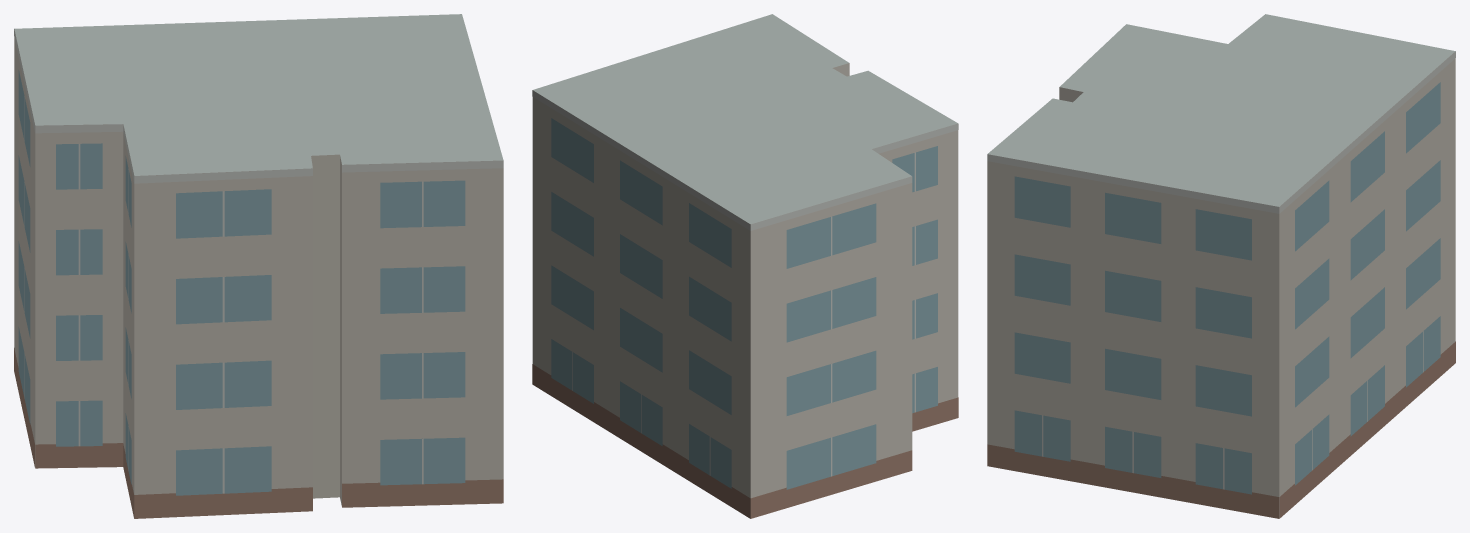
File: survey-upis-32823617.glb
The picture shows the model from 3 angles, left to right: view 1: azimuth 30°, elevation 25°; view 2: azimuth 150°, elevation 25°; view 3: azimuth 270°, elevation 25°; orthographic projection. The views are drawn at different scales.
Parts seen in each view (by area): view 1: survey-upis-32823617.tmp; view 2: survey-upis-32823617.tmp; view 3: survey-upis-32823617.tmp.
Boxes of the visible parts, x1,y1,x2,y2 form: survey-upis-32823617.tmp: (14, 14, 503, 518); survey-upis-32823617.tmp: (532, 14, 958, 518); survey-upis-32823617.tmp: (987, 14, 1455, 518).
Bounding box in the file's own units: 14.46 × 10.9 × 14.84.
